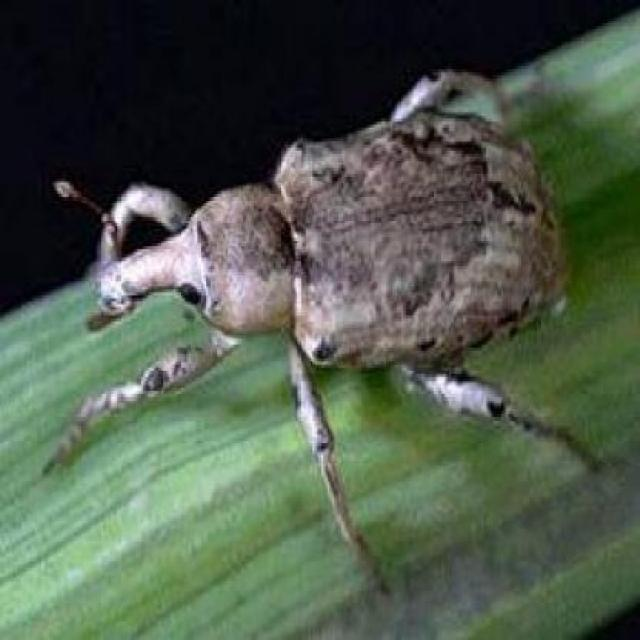rice-bug: (61, 64, 572, 493)
